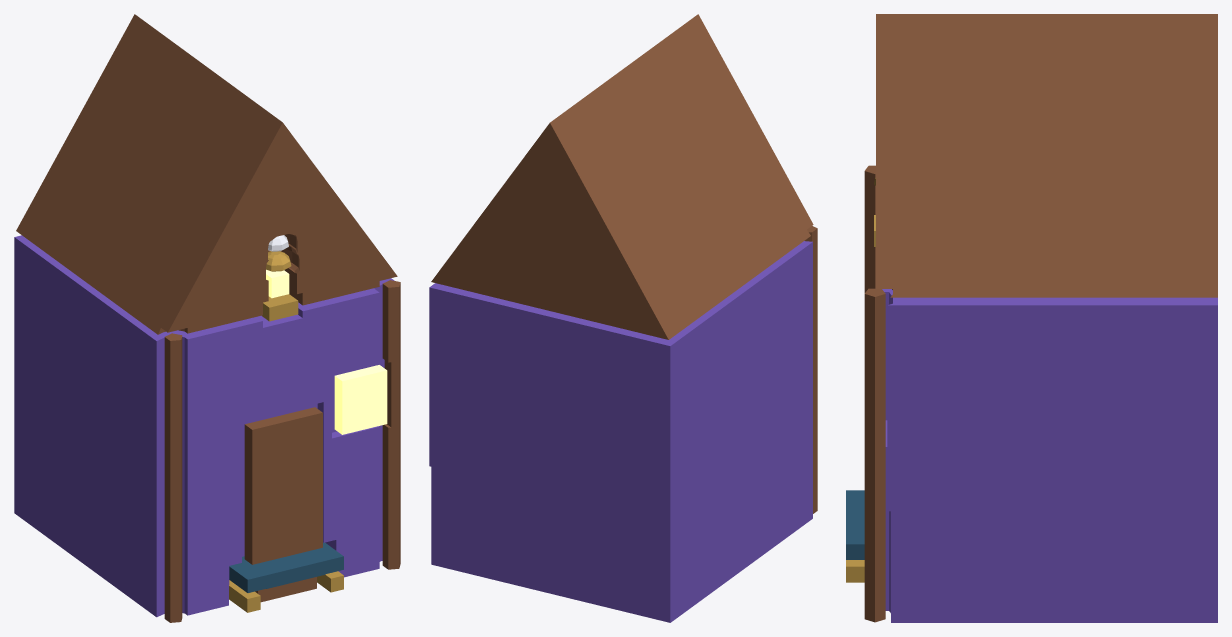
Rendered from h10_bobsled_hut.fbx.
The picture shows the model from 3 angles, left to right: view 1: azimuth 30°, elevation 25°; view 2: azimuth 150°, elevation 25°; view 3: azimuth 270°, elevation 25°; orthographic projection. The views are drawn at different scales.
Visible parts, largest first — view 1: h10_bobsled_hut__Timber, h10_bobsled_hut__Canvas, h10_bobsled_hut__Glow, h10_bobsled_hut__HullTeal, h10_bobsled_hut__Brass; view 2: h10_bobsled_hut__Canvas, h10_bobsled_hut__Timber; view 3: h10_bobsled_hut__Canvas, h10_bobsled_hut__Timber, h10_bobsled_hut__HullTeal, h10_bobsled_hut__Brass.
Boxes of the visible parts, x1,y1,x2,y2 form: h10_bobsled_hut__Timber: [16, 14, 400, 622]; h10_bobsled_hut__Canvas: [14, 235, 394, 617]; h10_bobsled_hut__Glow: [266, 269, 387, 434]; h10_bobsled_hut__HullTeal: [229, 542, 343, 592]; h10_bobsled_hut__Brass: [229, 251, 343, 612]; h10_bobsled_hut__Canvas: [429, 241, 812, 622]; h10_bobsled_hut__Timber: [431, 14, 817, 513]; h10_bobsled_hut__Canvas: [882, 289, 1217, 622]; h10_bobsled_hut__Timber: [864, 14, 1217, 622]; h10_bobsled_hut__HullTeal: [846, 490, 864, 559]; h10_bobsled_hut__Brass: [846, 178, 875, 582].
Size of the model in its own units: 3.75 by 7 by 4.35.
